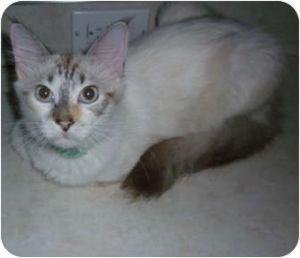siamese: (1, 10, 140, 156)
